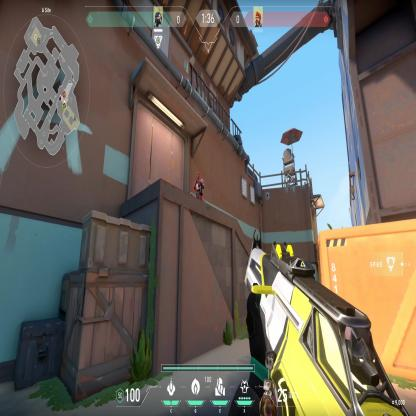enemy: (193, 170, 205, 204)
